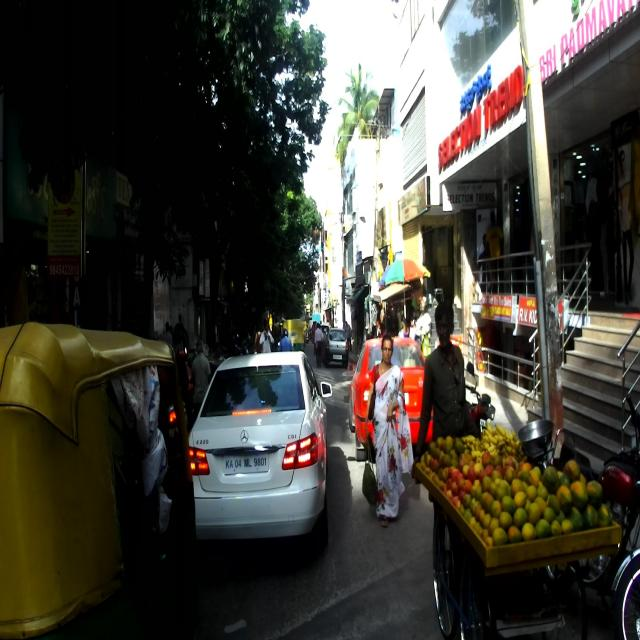Car_Mercedes_Benz: (188, 350, 332, 553)
Car_Skoda: (347, 337, 435, 461)
autorickshaw: (0, 320, 195, 639)
